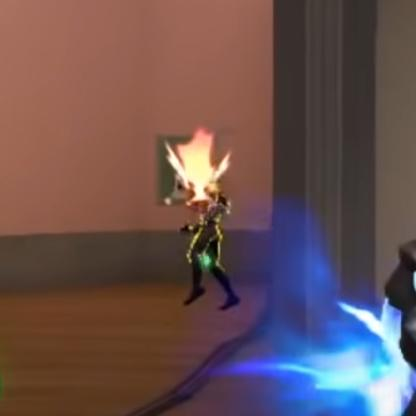enemyHead: (174, 151, 233, 217)
